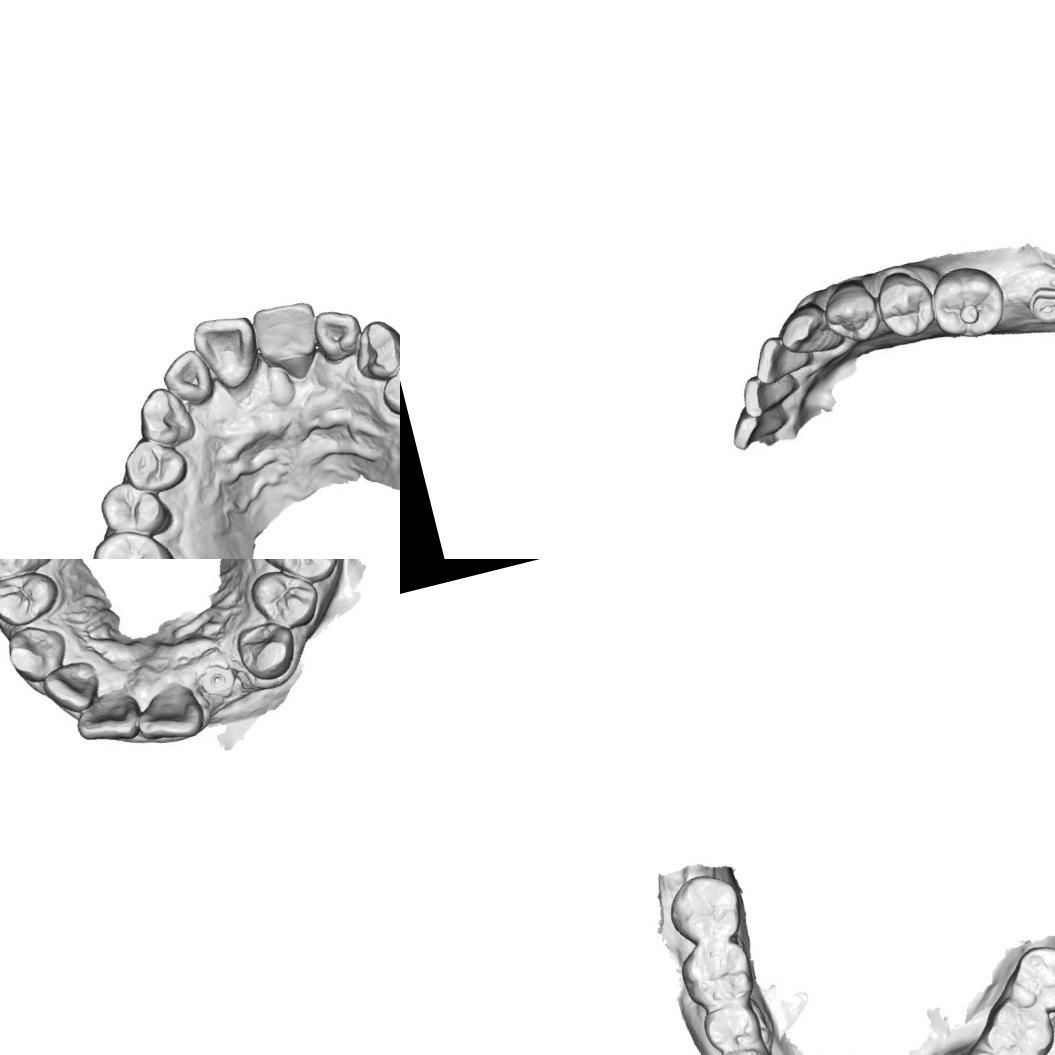canine: (772, 297, 848, 370), (0, 617, 73, 690), (134, 378, 204, 450), (231, 614, 299, 686), (346, 313, 400, 381)
implant: (198, 654, 244, 702)
implant_minus: (1021, 278, 1055, 324)
incisor: (250, 297, 330, 384), (126, 676, 210, 752), (192, 310, 266, 394), (70, 690, 144, 752), (36, 655, 106, 720), (156, 344, 220, 414), (308, 300, 366, 370), (748, 330, 806, 382), (742, 370, 804, 416)
molar: (660, 866, 750, 951), (674, 930, 759, 1016), (928, 262, 1012, 347), (972, 988, 1055, 1055), (993, 935, 1055, 1022), (249, 559, 352, 592)
premolar: (240, 560, 324, 639), (92, 472, 171, 542), (874, 268, 942, 346), (113, 430, 190, 497), (699, 993, 769, 1055), (0, 563, 63, 631), (822, 280, 879, 344), (375, 357, 400, 420), (711, 1034, 783, 1055), (953, 1040, 1022, 1055)
